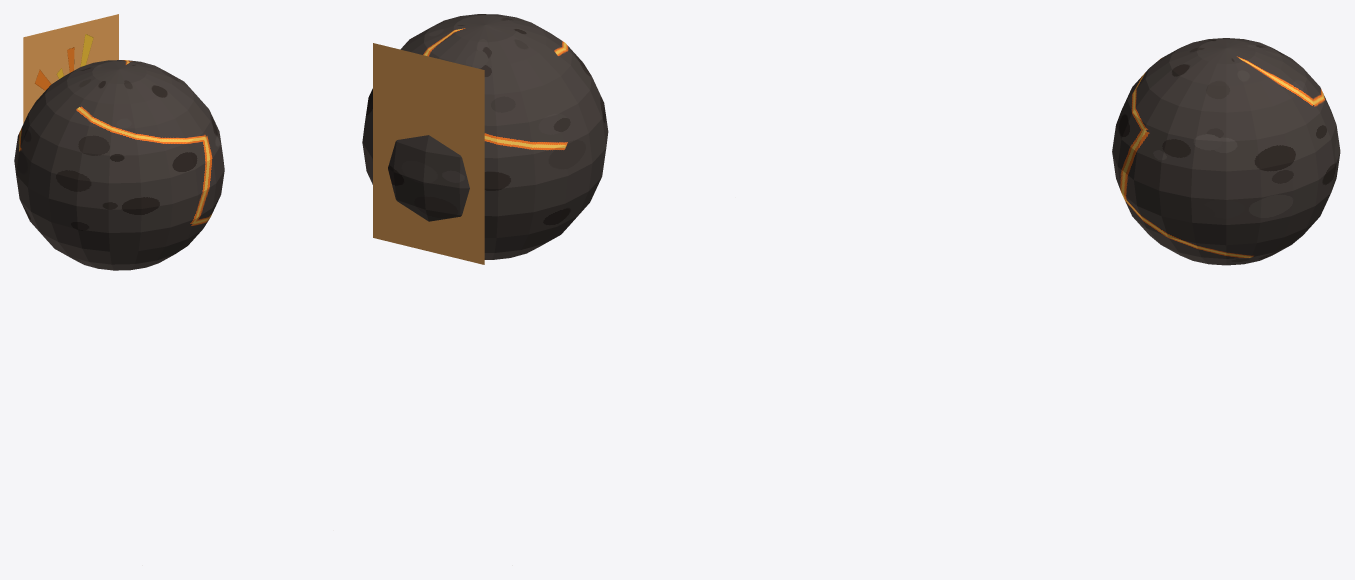
Rendered from meteor_1tou_3d.glb.
The picture shows the model from 3 angles, left to right: view 1: azimuth 30°, elevation 25°; view 2: azimuth 150°, elevation 25°; view 3: azimuth 270°, elevation 25°; orthographic projection. The views are drawn at different scales.
Parts seen in each view (by area): view 1: meteor_rock, meteor_trail; view 2: meteor_rock, meteor_trail; view 3: meteor_rock.
Boxes of the visible parts, <box> form: meteor_rock: <box>14,60,224,270</box>; meteor_trail: <box>23,14,118,123</box>; meteor_rock: <box>362,14,608,259</box>; meteor_trail: <box>373,43,484,264</box>; meteor_rock: <box>1112,38,1340,265</box>.
Bounding box in the file's own units: 0.46 × 1.17 × 1.16.
6 materials, 4 textured.
